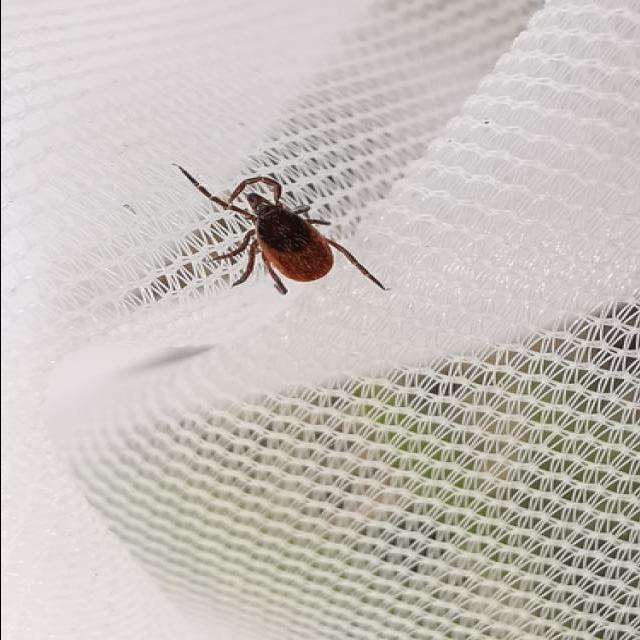Ixodes Ricinus-F: (181, 172, 387, 296)
